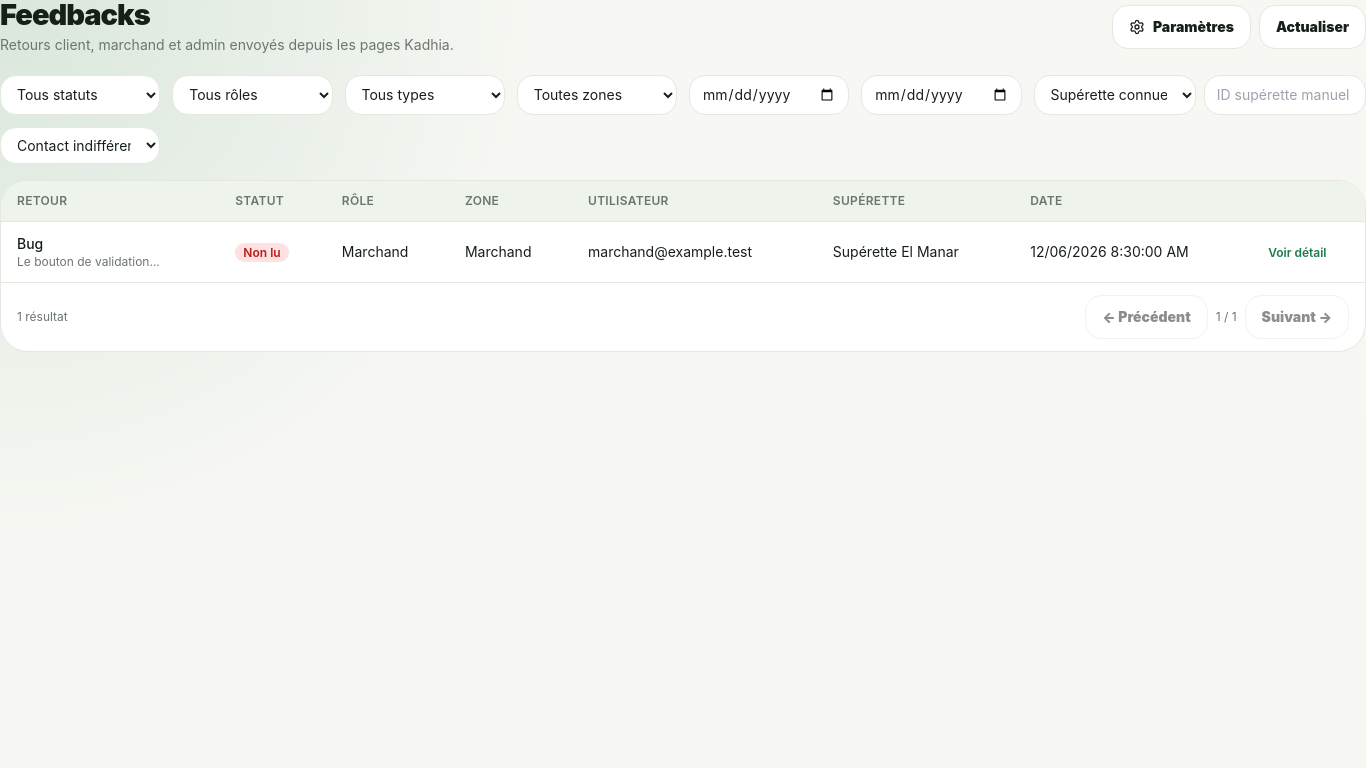
AdminFeedbacksPage › exécute les actions admin avec succès visible et rafraîchissement liste
Click the button "Voir détail" at {"x": 1297, "y": 253}, box [1268, 245, 1326, 261]
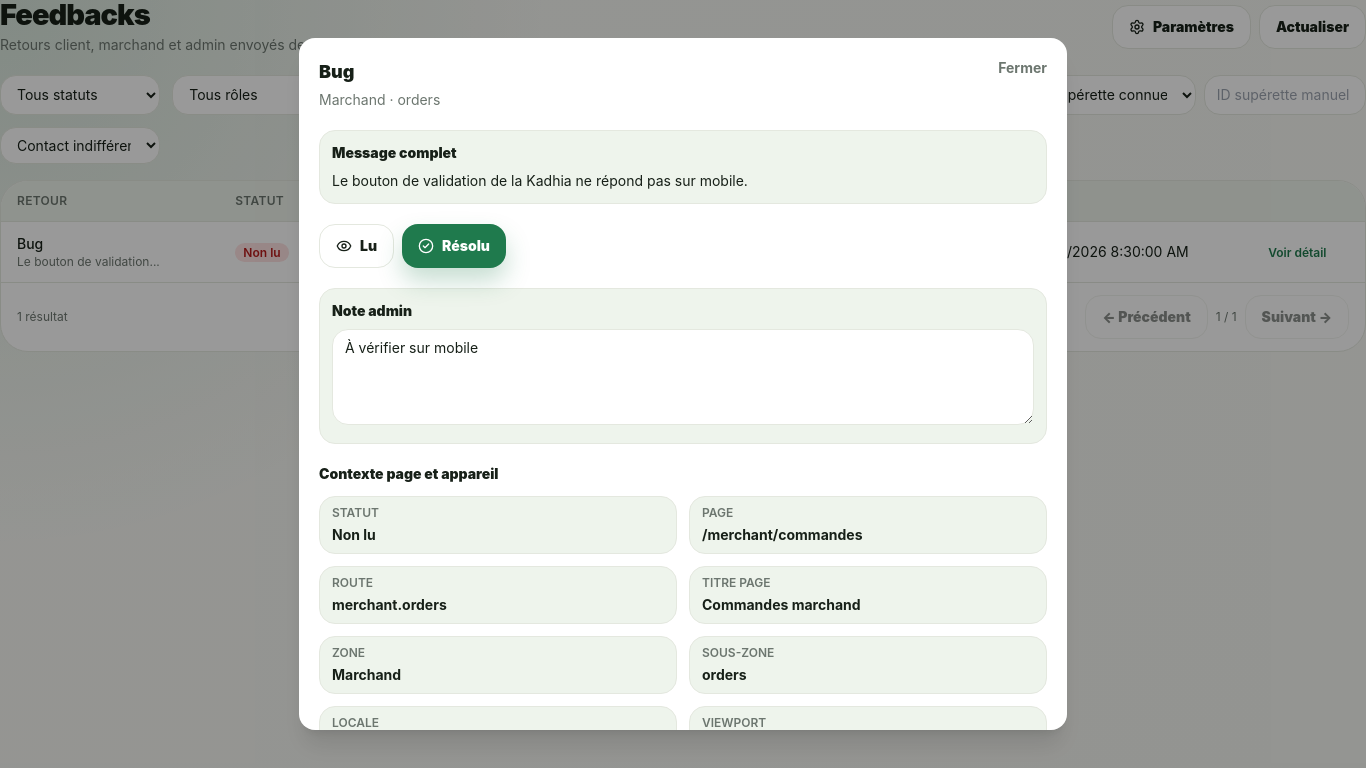
Click the button "Lu" at {"x": 356, "y": 246}, box [319, 224, 394, 268]
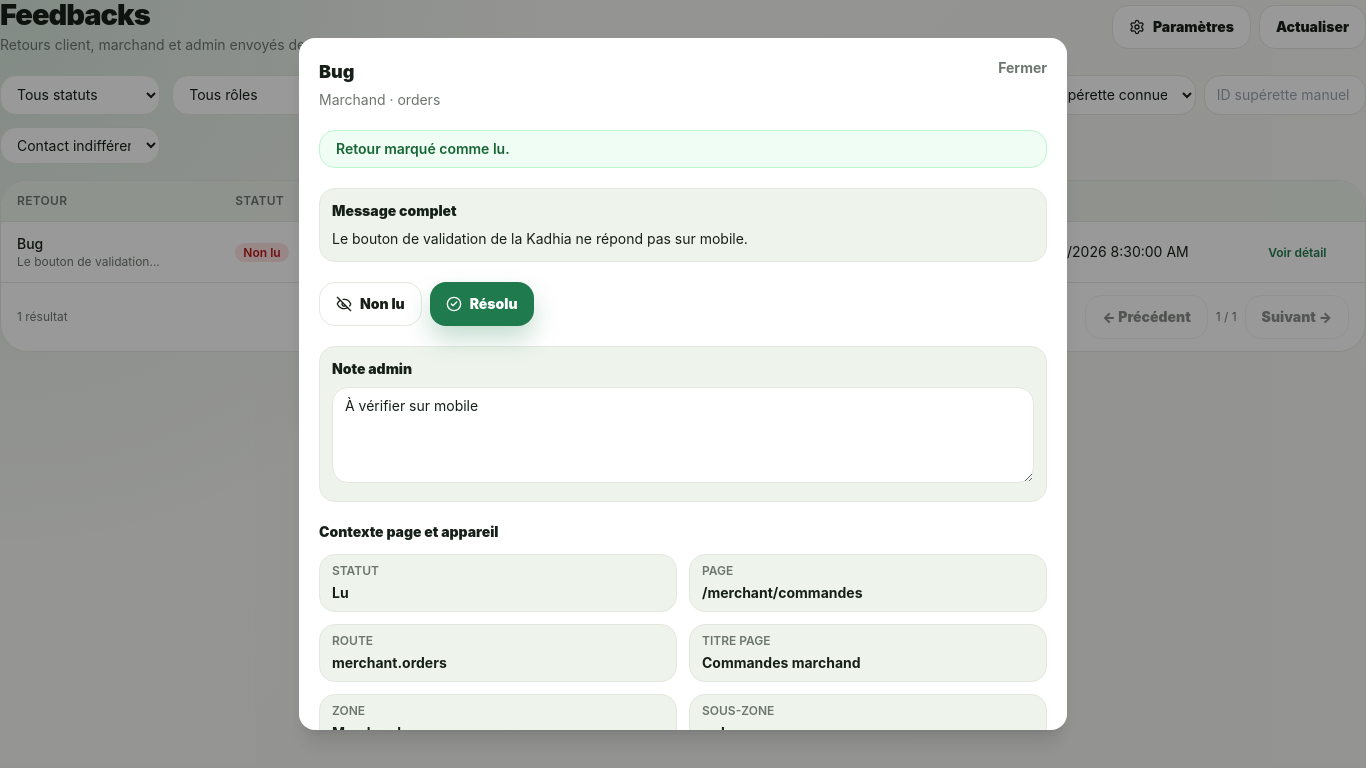
Now the text "Retour marqué comme lu." is shown, box [319, 130, 1047, 168]
Click the button "Non lu" at {"x": 370, "y": 304}, box [319, 282, 422, 326]
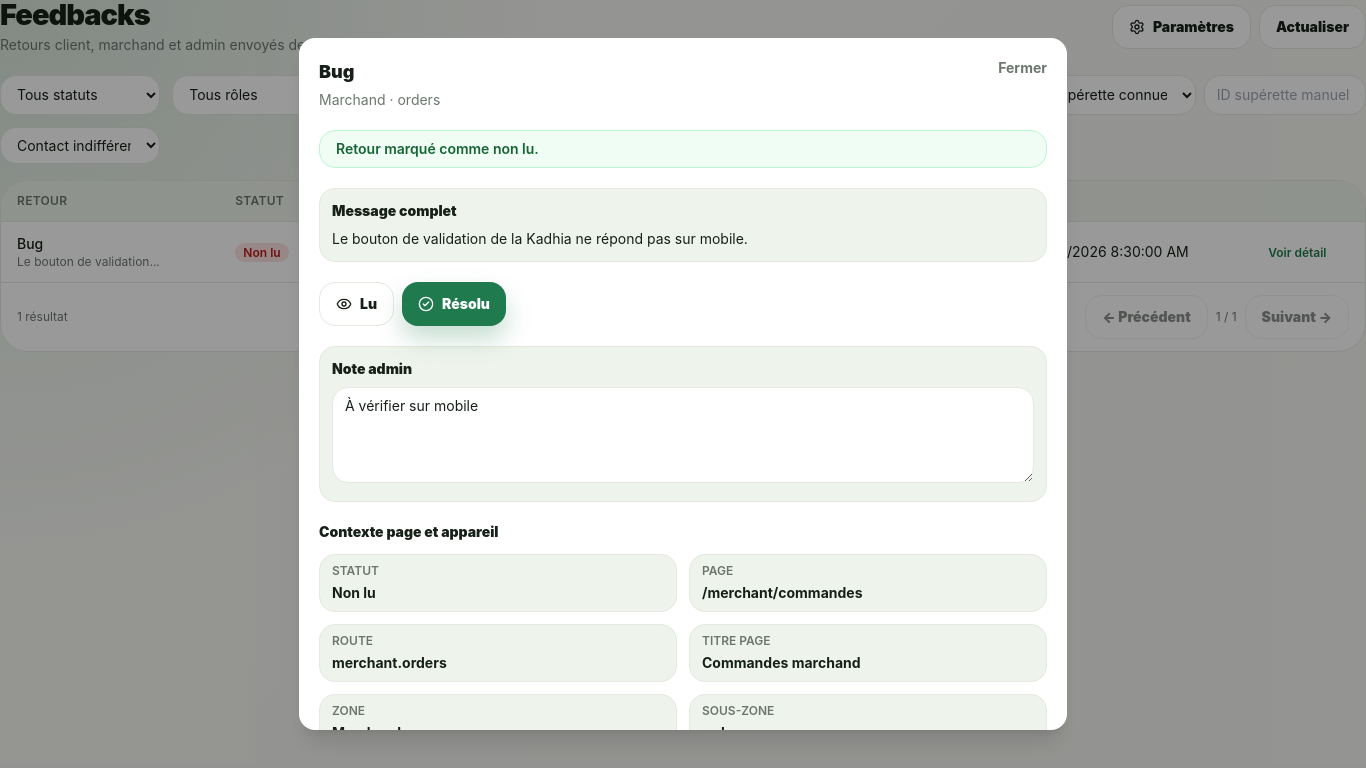
Now the text "Retour marqué comme non lu." is shown, box [319, 130, 1047, 168]
Replace the text in the text box named "Note admin" with "Traité par support" at {"x": 683, "y": 435}, box [332, 387, 1034, 483]
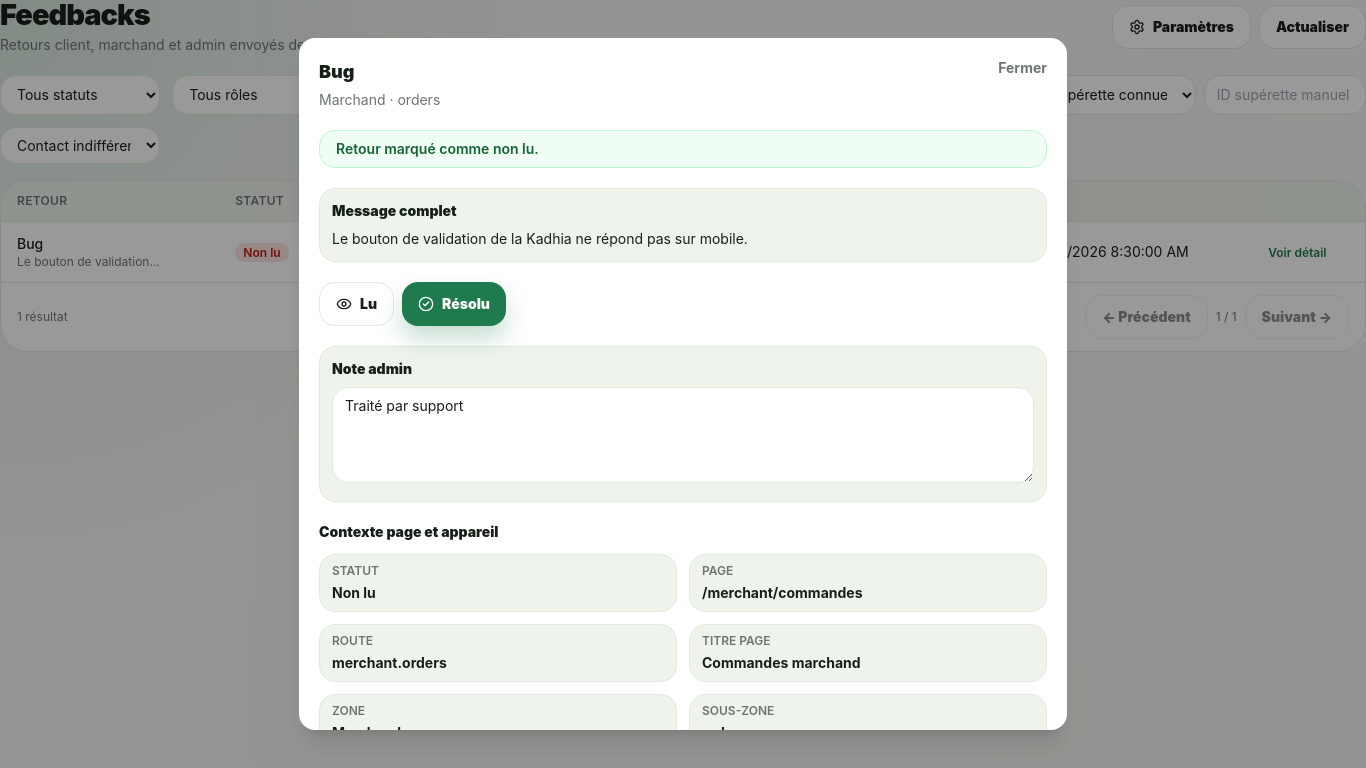
Click the button "Résolu" at {"x": 454, "y": 304}, box [402, 282, 506, 326]
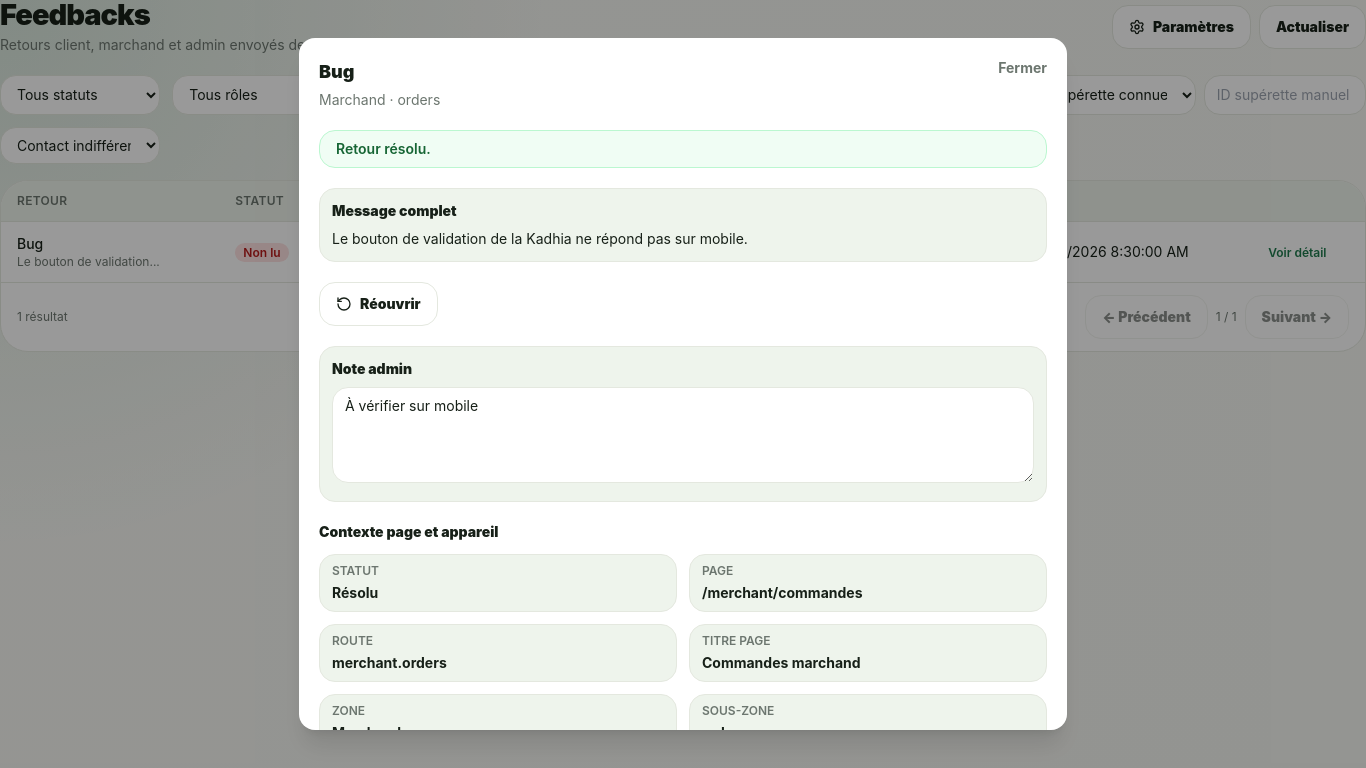
Now the text "Retour résolu." is shown, box [319, 130, 1047, 168]
Click the button "Réouvrir" at {"x": 378, "y": 304}, box [319, 282, 438, 326]
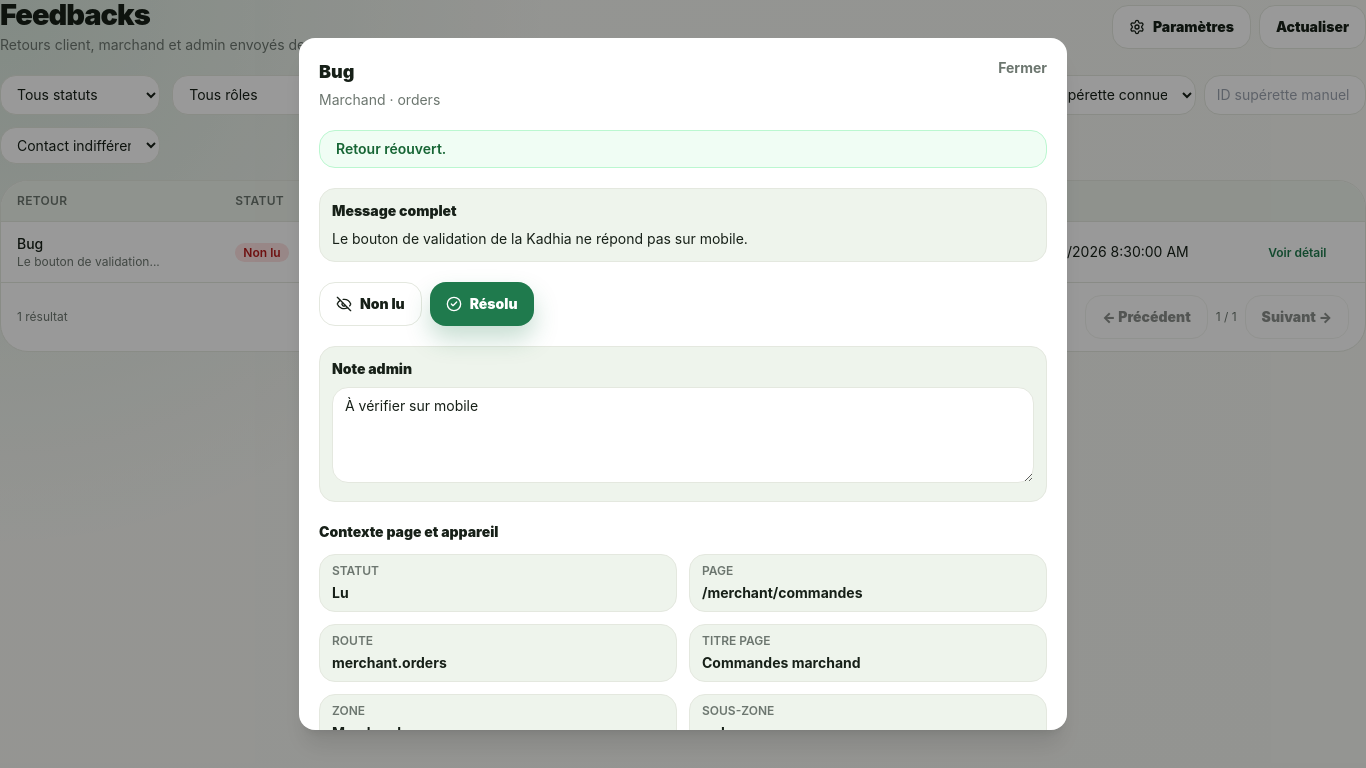
Now the text "Retour réouvert." is shown, box [319, 130, 1047, 168]
